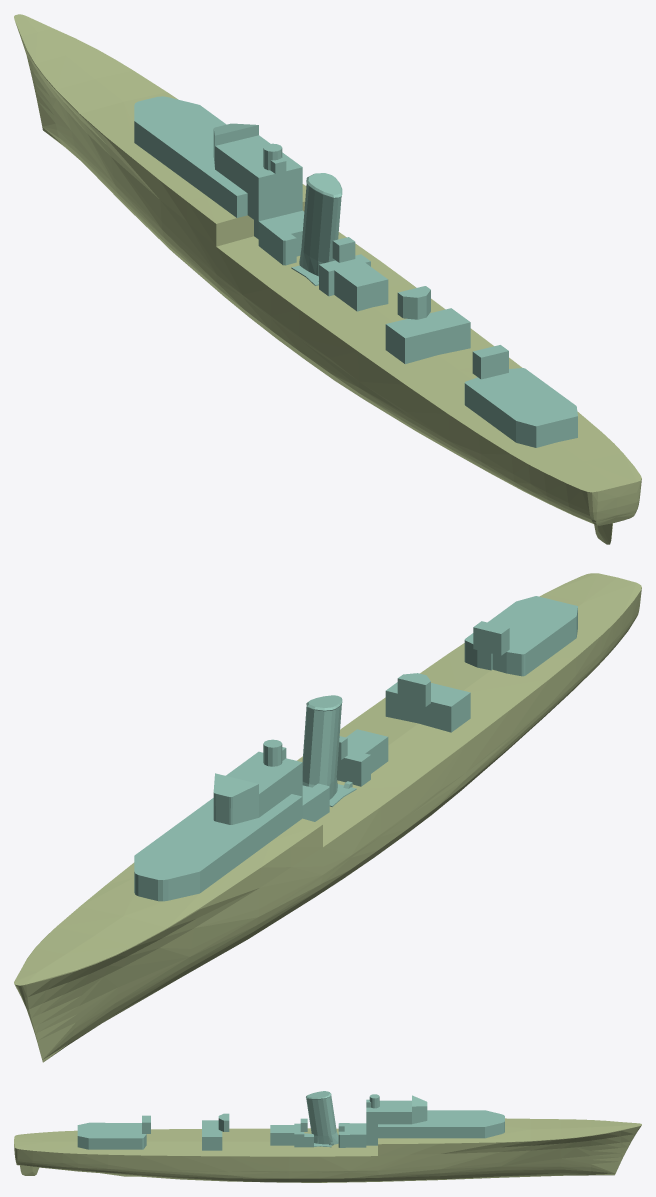
Rendered from PBSD519_armor.glb.
3 views of the same model, one above another, from view 1: azimuth 30°, elevation 25°; view 2: azimuth 150°, elevation 25°; view 3: azimuth 270°, elevation 25° (orthographic). The views are drawn at different scales.
Visible parts, largest first — view 1: armor; view 2: armor; view 3: armor.
Part boxes in pixels (bbox=[...]): armor: bbox=[14, 14, 641, 544]; armor: bbox=[14, 573, 641, 1062]; armor: bbox=[14, 1091, 641, 1182].
Bounding box in the file's own units: 21.24 × 29.1 × 200.
